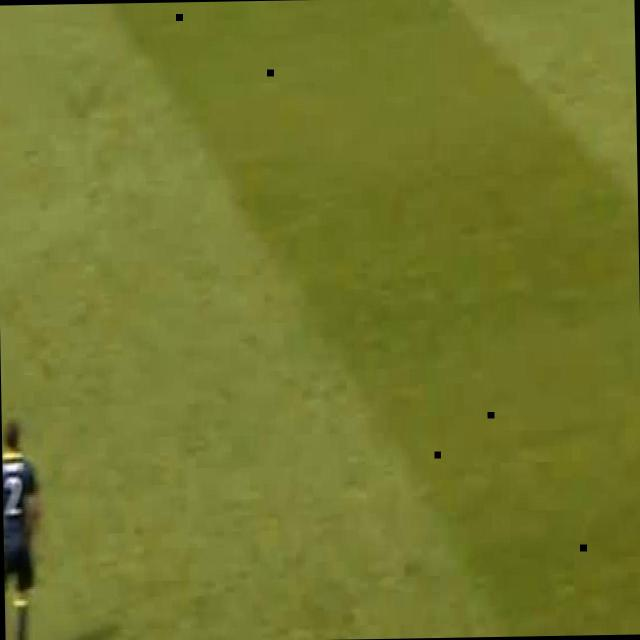player-white: (2, 423, 42, 640)
